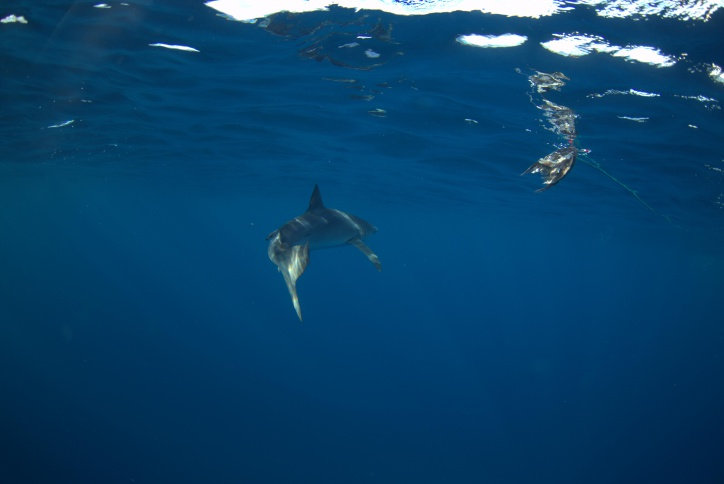Azul: (229, 173, 433, 330)
